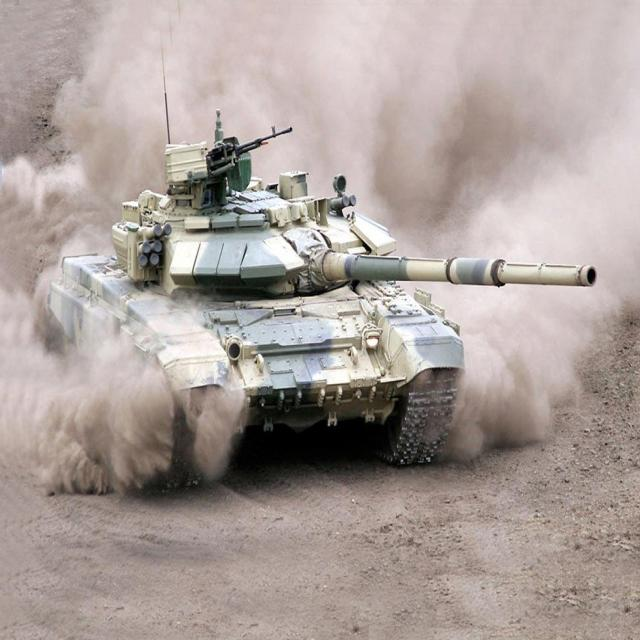Tanks: (40, 98, 515, 477)
